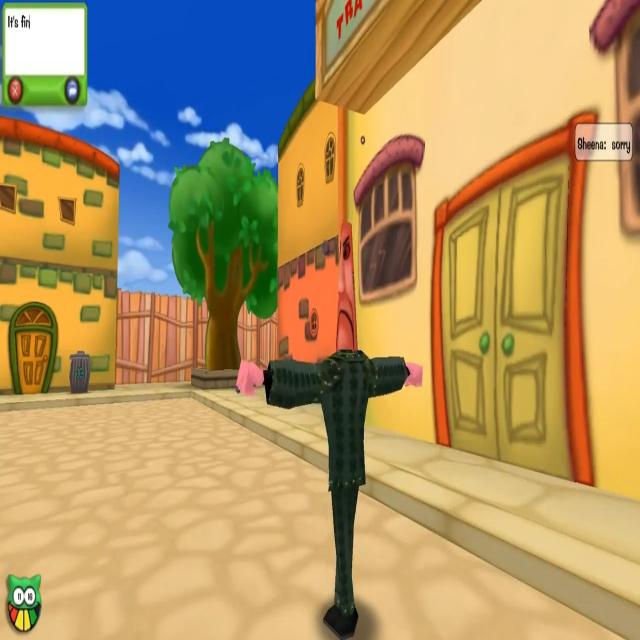pennypincher: (264, 250, 422, 640)
